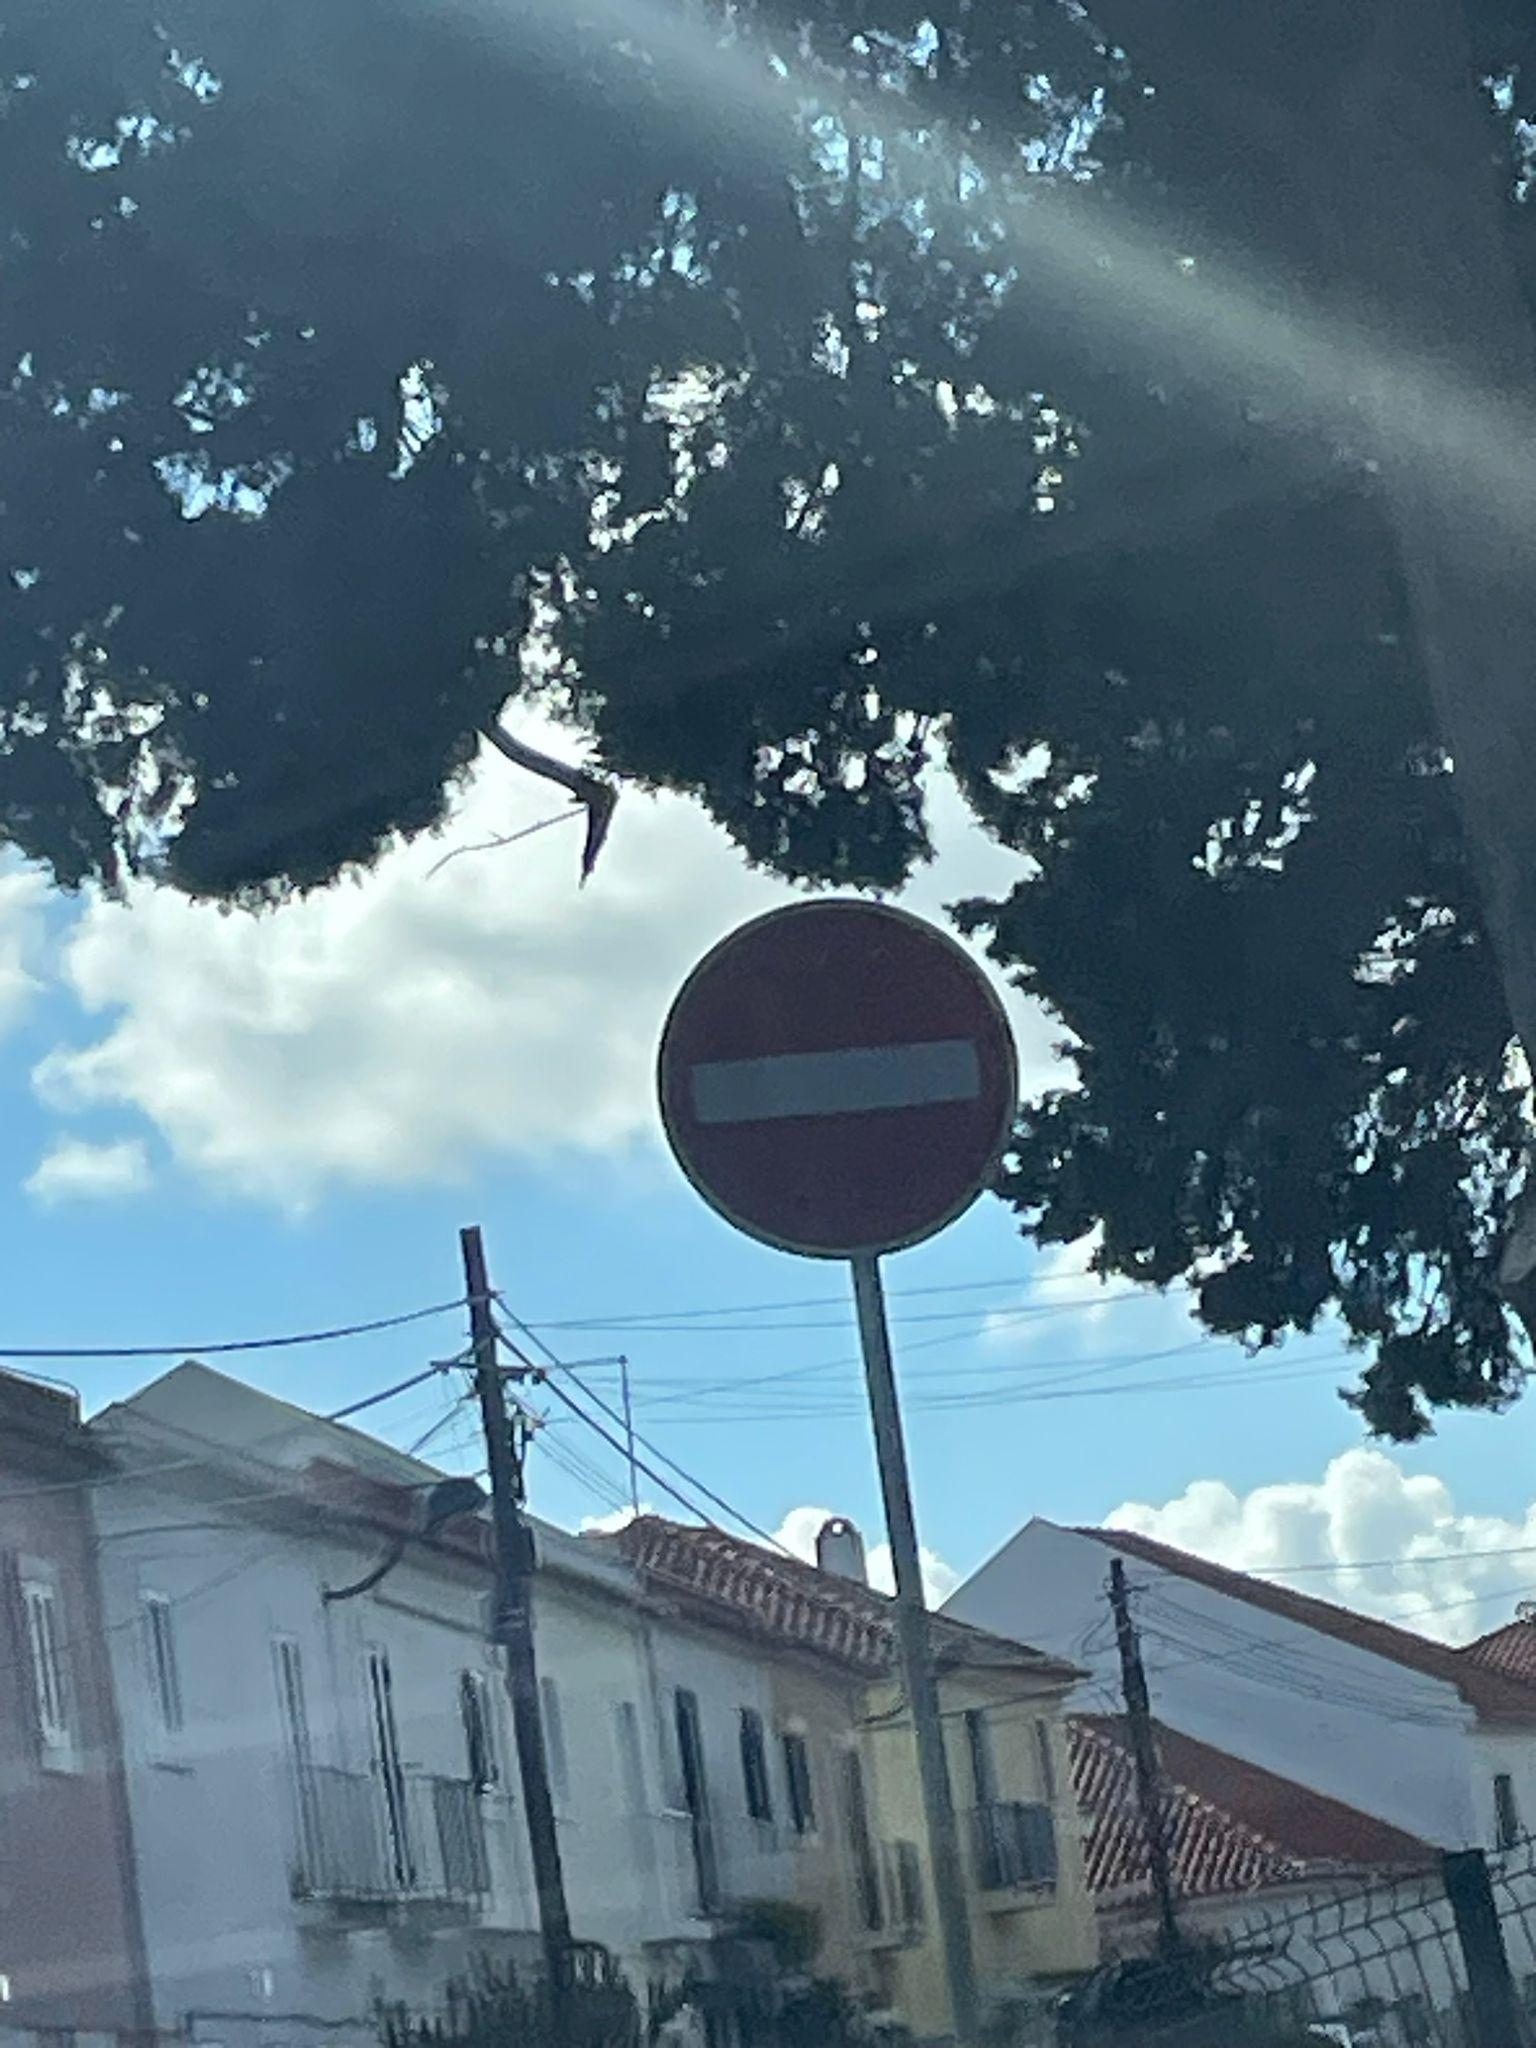Sentido proibido: (629, 847, 1029, 1272)
